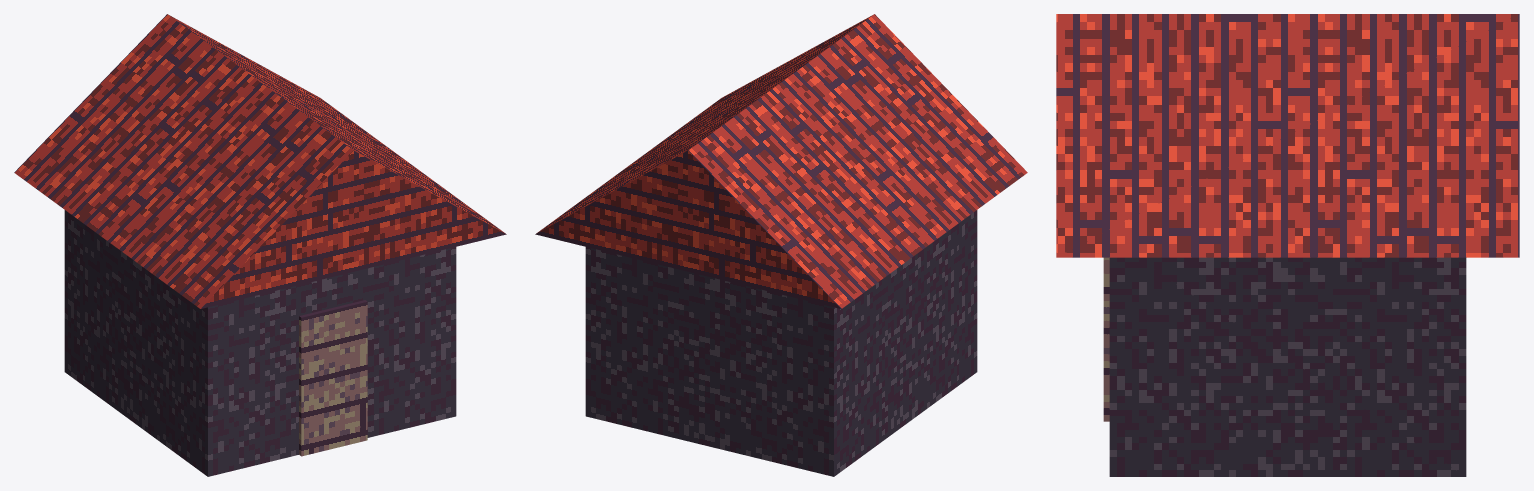
Rendered from termas_geiseres_casa_banhos.glb.
3 renders of one model, left to right at view 1: azimuth 30°, elevation 25°; view 2: azimuth 150°, elevation 25°; view 3: azimuth 270°, elevation 25°, orthographic. The views are drawn at different scales.
Visible parts, largest first — view 1: termas_geiseres_casa_banhos; view 2: termas_geiseres_casa_banhos; view 3: termas_geiseres_casa_banhos.
Part boxes in pixels (x1,y1,x2,y2): termas_geiseres_casa_banhos: (14, 14, 506, 476); termas_geiseres_casa_banhos: (535, 14, 1027, 476); termas_geiseres_casa_banhos: (1056, 14, 1519, 476).
Size of the model in its own units: 3.7 by 3.6 by 3.9.
Materials: 3 (3 with a texture image).
